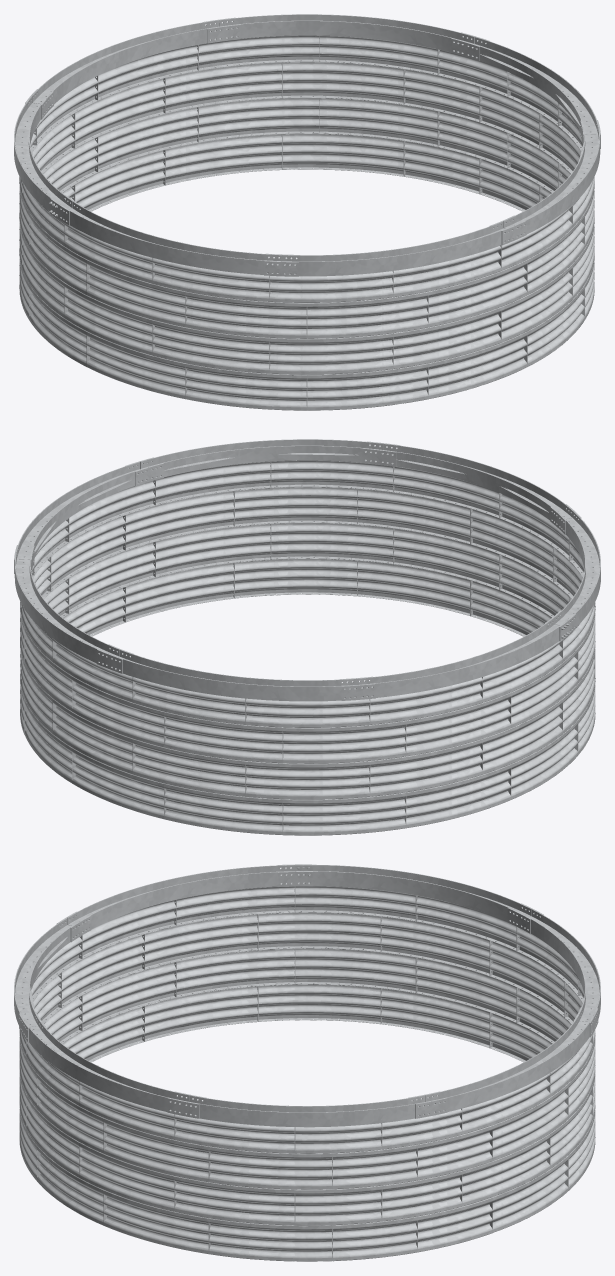
File: allwell-deep-foundation.glb
3 views of the same model, one above another, from view 1: azimuth 30°, elevation 25°; view 2: azimuth 150°, elevation 25°; view 3: azimuth 270°, elevation 25° (orthographic).
Parts seen in each view (by area): view 1: LinerPlates; view 2: LinerPlates; view 3: LinerPlates.
Part boxes in pixels (x1,y1,x2,y2): LinerPlates: [14, 14, 600, 410]; LinerPlates: [14, 439, 600, 835]; LinerPlates: [14, 864, 600, 1261].
Size of the model in its own units: 7.45 by 2.11 by 7.4.
Materials: 1 (1 with a texture image).
